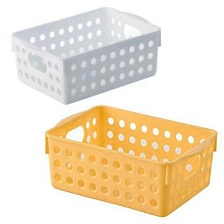plastic_box: (36, 99, 223, 224), (3, 2, 168, 106)
